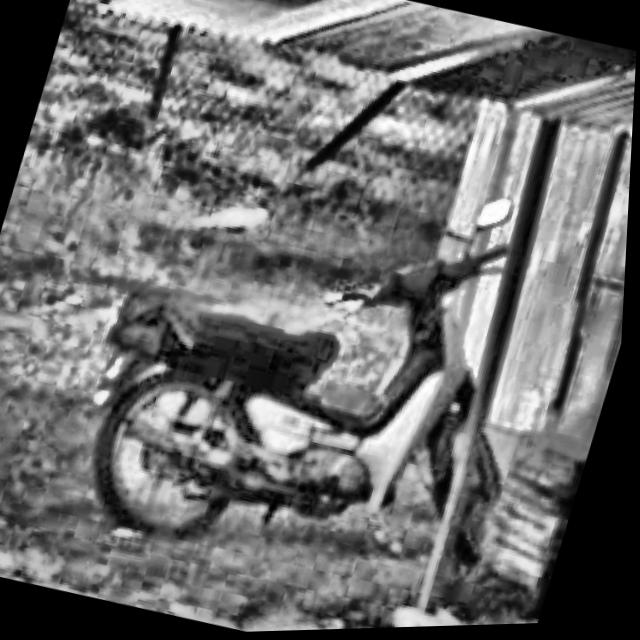motorcycle: (46, 130, 600, 622)
